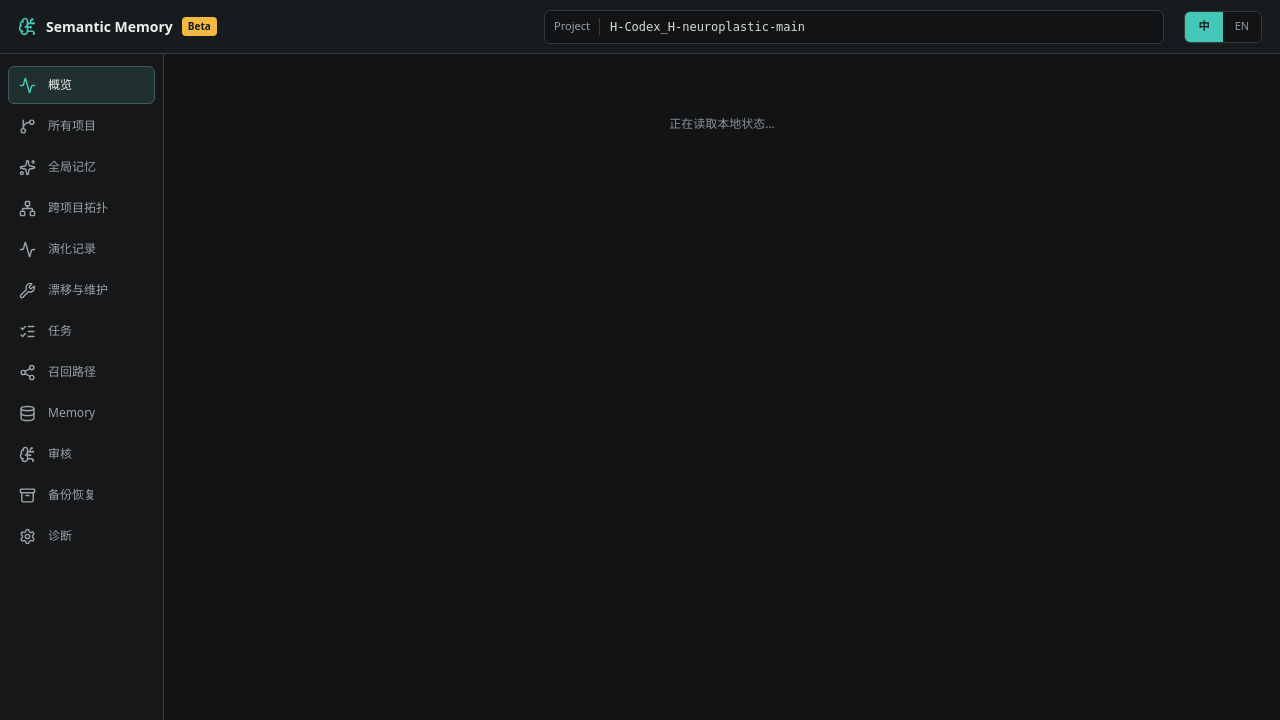
Test: Stage14 global Manager views › paginates real memory payloads and renders nested topology provenance safely
The image size is (1280, 720).
Click the button "全局记忆" at x=82, y=167, box [8,148,155,186]
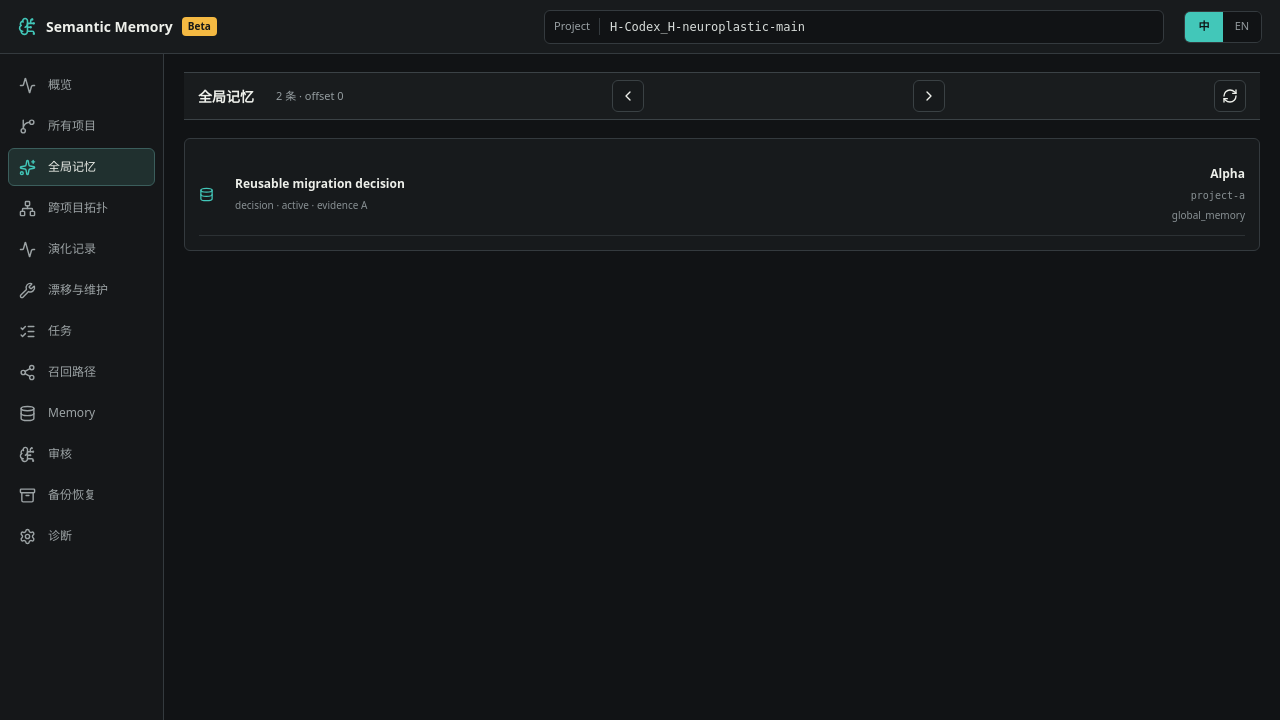
Check: the text "Reusable migration decision" is shown, box [235,175,405,192]
Check: the text "Alpha" is shown, box [1210,165,1245,182]
Check: the text "global_memory" is shown, box [1172,208,1245,223]
Click the button named "下一页" at x=929, y=96, box [913,80,945,112]
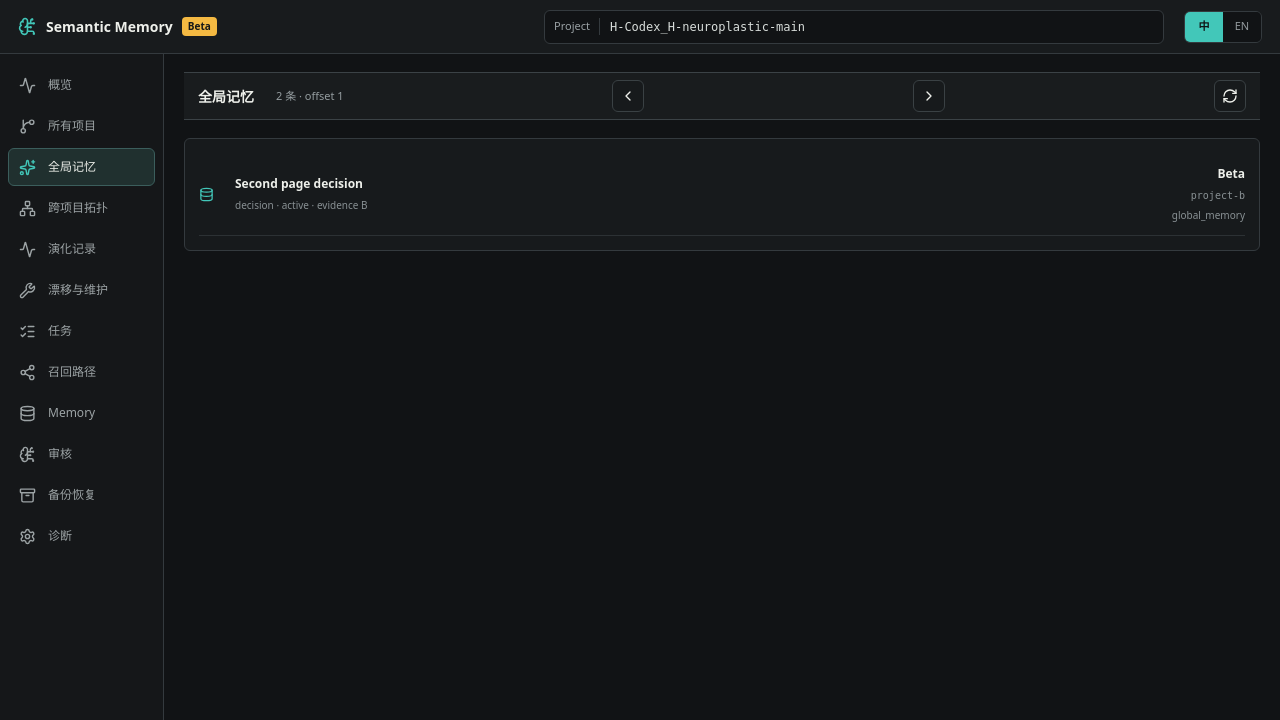
Check: the text "Second page decision" is shown, box [235,175,363,192]
Click the button "跨项目拓扑" at x=82, y=208, box [8,189,155,227]
(page scrolled)
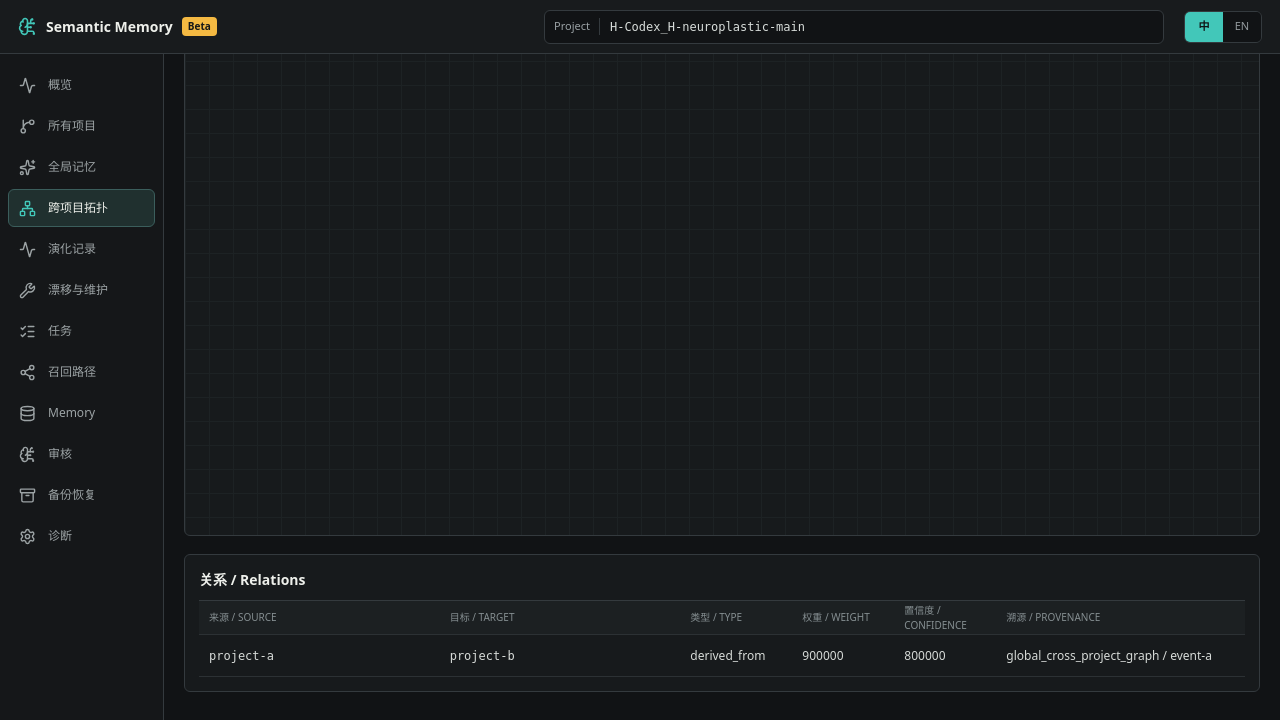
Check: the element named "跨项目拓扑图 / Cross-project topology graph" is shown, box [184,54,1260,536]
Click the button "derived_from" at x=722, y=656, box [199,635,1245,677]
(page scrolled)
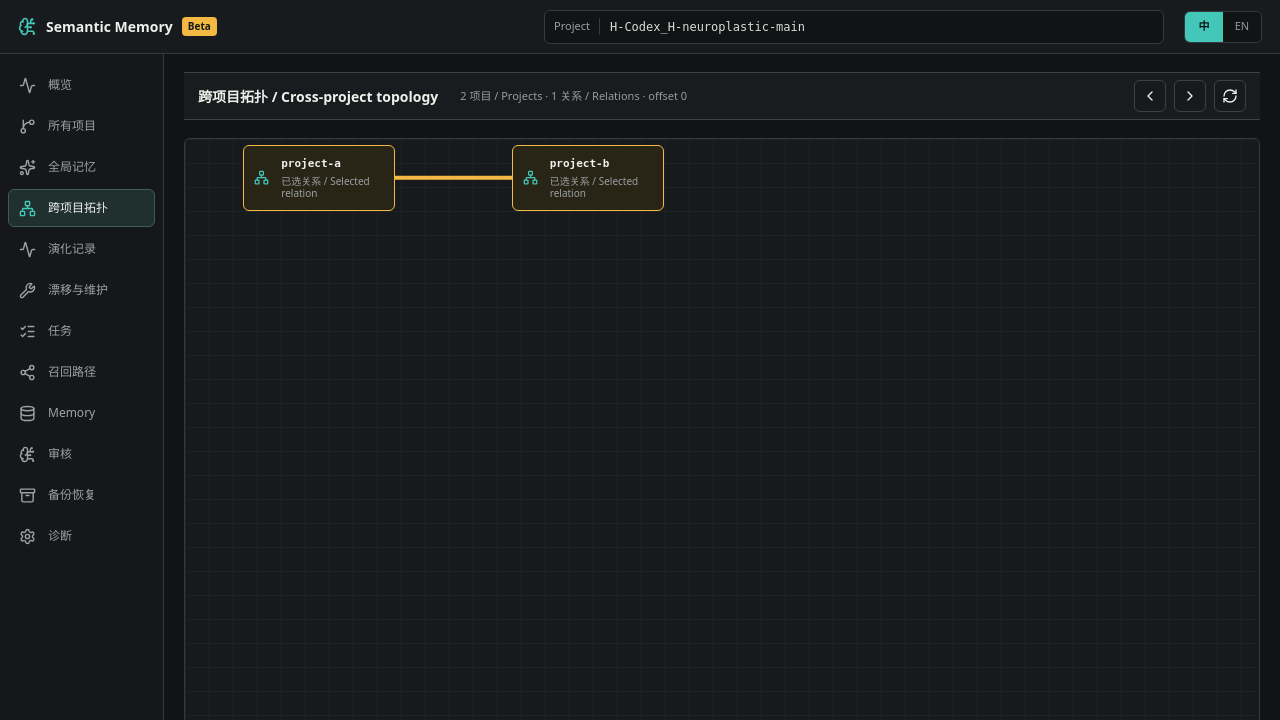
Click the button titled "project-a" at x=319, y=178, box [243,145,395,211]
(page scrolled)
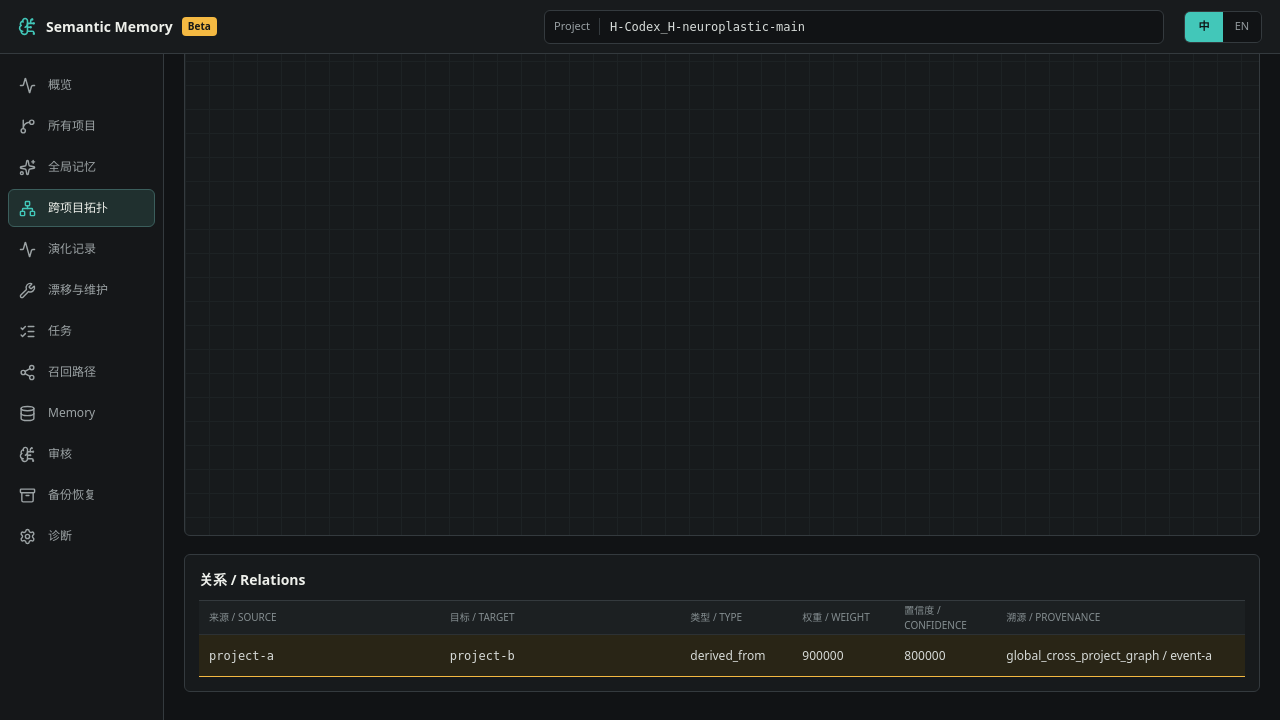
Check: the text "global_cross_project_graph / event-a" is shown, box [1006,646,1235,664]
